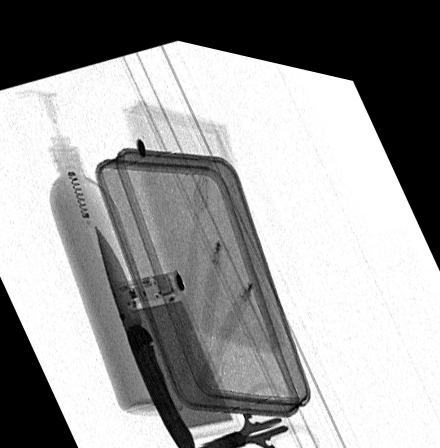Knife: (93, 217, 196, 448)
Powerbank: (111, 261, 241, 436)
Scissors: (186, 368, 319, 448)
